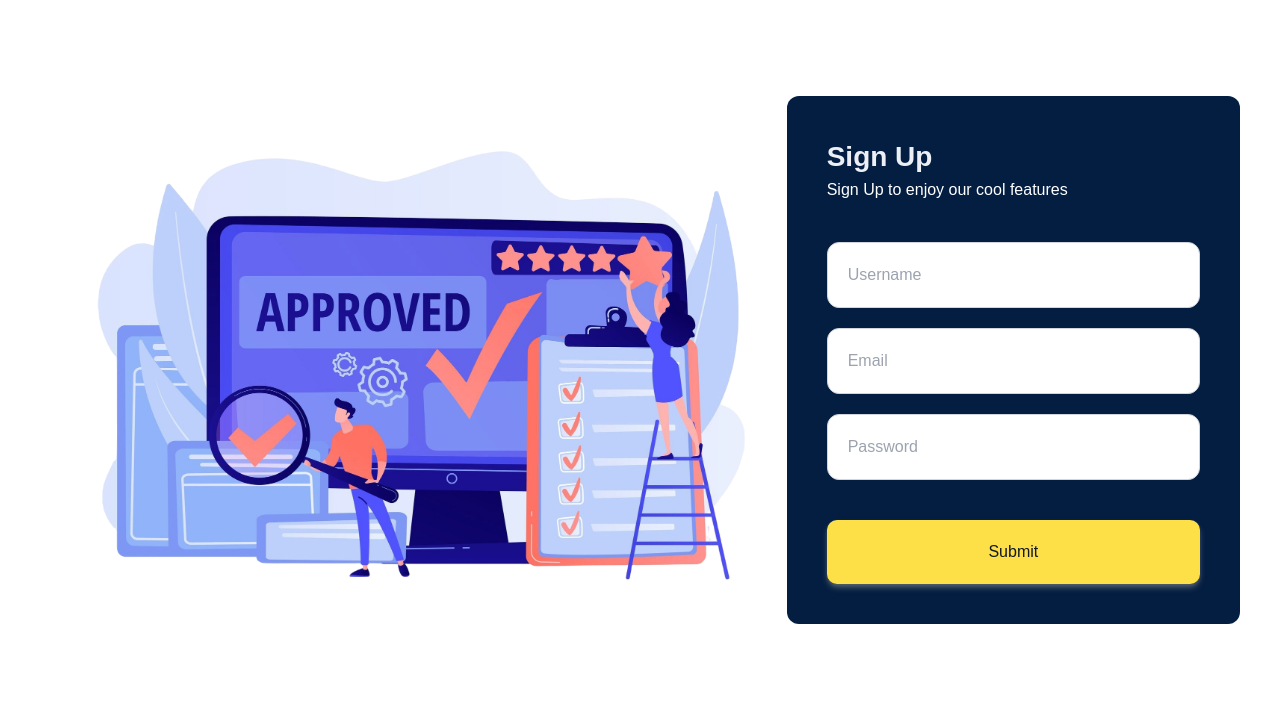
Test: SignUp component › validates form fields and shows error messages
This screenshot has width=1280, height=720.
What coordinates should you click on to do the following:
click the button "Submit"
I would click on:
 (1013, 552)
Its box is [827, 520, 1200, 584].
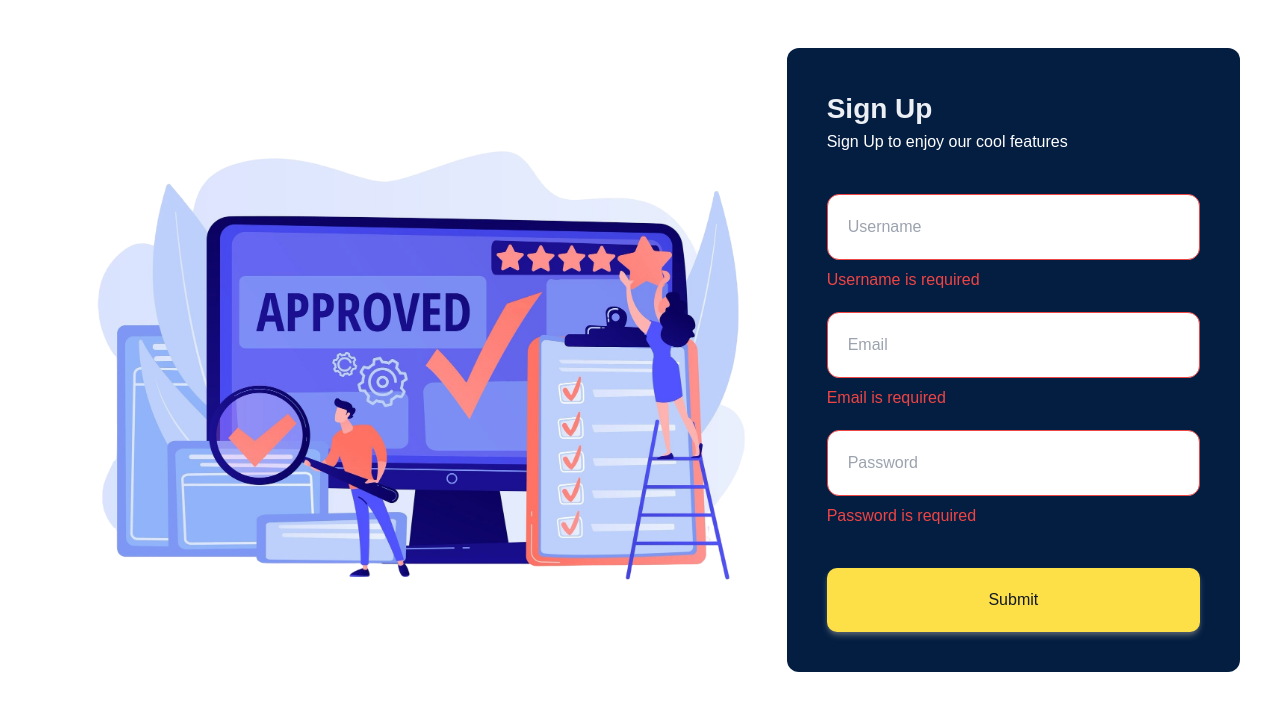
Now the text "Username is required" is shown, box [827, 271, 980, 288]
Now the text "Email is required" is shown, box [827, 389, 946, 406]
Now the text "Password is required" is shown, box [827, 507, 976, 524]
